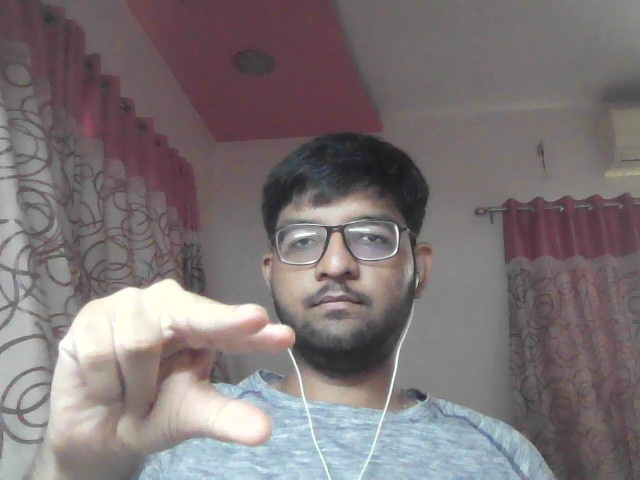ના: (37, 275, 307, 464)
